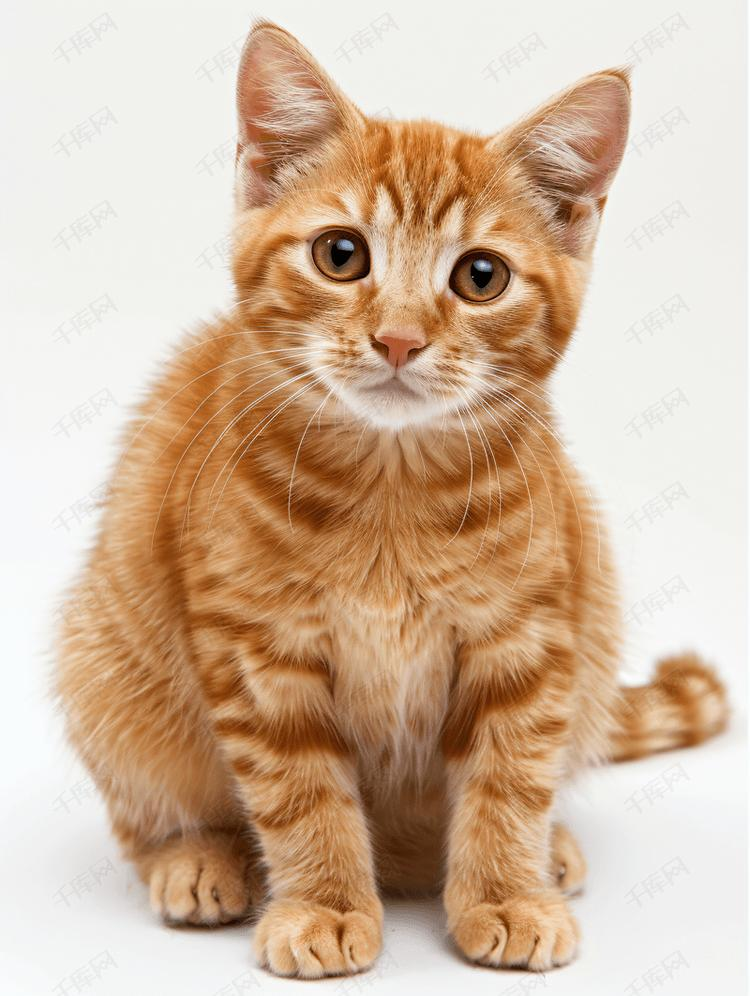橘猫: (233, 22, 628, 472)
